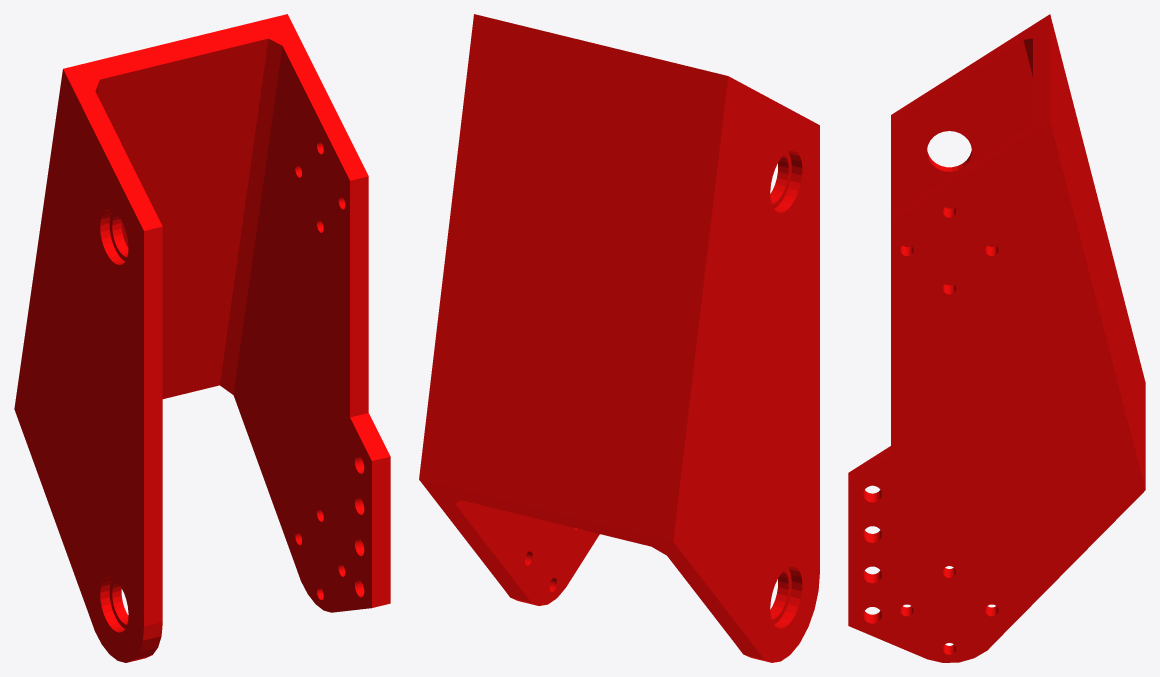
Rendered from Right_lower_leg.dae.
3 renders of one model, left to right at view 1: azimuth 30°, elevation 25°; view 2: azimuth 150°, elevation 25°; view 3: azimuth 270°, elevation 25°, orthographic. The views are drawn at different scales.
Visible parts, largest first — view 1: lower_leg_right; view 2: lower_leg_right; view 3: lower_leg_right.
Part boxes in pixels (<box>): lower_leg_right: <box>14,14,390,662</box>; lower_leg_right: <box>419,14,819,662</box>; lower_leg_right: <box>848,14,1145,662</box>.
Bounding box in the file's own units: 0.048 × 0.0561 × 0.1127.
